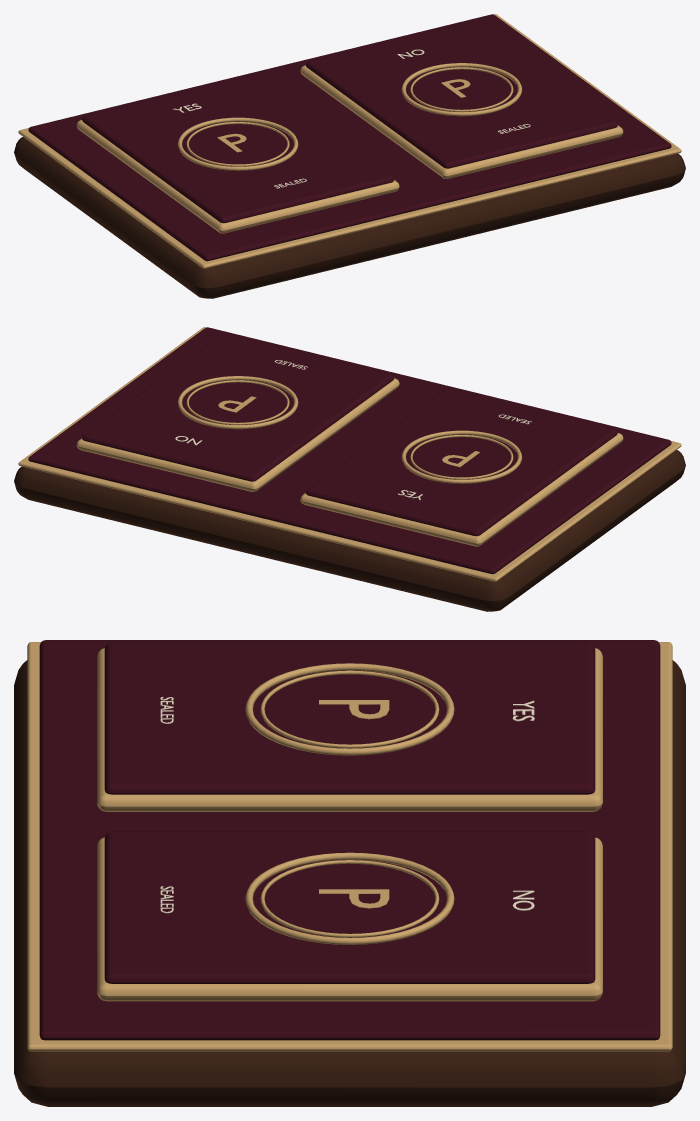
File: prediction.glb
3 renders of one model, top to bottom at view 1: azimuth 30°, elevation 25°; view 2: azimuth 150°, elevation 25°; view 3: azimuth 270°, elevation 25°, orthographic. The views are drawn at different scales.
Visible parts, largest first — view 1: felt_inset.001, card_back_0, card_back_1, walnut_base.001, brass_inlay.001, sealed_card_0, sealed_card_1, card_rosette_0, card_rosette_1, card_rosette_inner_1, card_rosette_inner_0; view 2: felt_inset.001, card_back_0, card_back_1, walnut_base.001, brass_inlay.001, sealed_card_0, sealed_card_1, card_rosette_0, card_rosette_1, card_rosette_inner_1, card_rosette_inner_0; view 3: felt_inset.001, card_back_0, card_back_1, walnut_base.001, brass_inlay.001, sealed_card_1, sealed_card_0, card_rosette_0, card_rosette_1, card_rosette_inner_1, card_rosette_inner_0, card_monogram_1.
Part boxes in pixels (x1=…): felt_inset.001: x1=28, y1=14, x2=671, y2=261; card_back_0: x1=82, y1=75, x2=393, y2=223; card_back_1: x1=306, y1=21, x2=617, y2=168; walnut_base.001: x1=14, y1=137, x2=685, y2=298; brass_inlay.001: x1=18, y1=14, x2=681, y2=268; sealed_card_0: x1=76, y1=120, x2=399, y2=233; sealed_card_1: x1=300, y1=65, x2=623, y2=178; card_rosette_0: x1=177, y1=117, x2=298, y2=170; card_rosette_1: x1=401, y1=63, x2=522, y2=116; card_rosette_inner_1: x1=410, y1=67, x2=513, y2=111; card_rosette_inner_0: x1=186, y1=122, x2=289, y2=166; felt_inset.001: x1=28, y1=327, x2=671, y2=574; card_back_0: x1=306, y1=388, x2=617, y2=536; card_back_1: x1=82, y1=334, x2=393, y2=481; walnut_base.001: x1=14, y1=450, x2=685, y2=611; brass_inlay.001: x1=18, y1=327, x2=681, y2=581; sealed_card_0: x1=300, y1=433, x2=623, y2=546; sealed_card_1: x1=76, y1=378, x2=399, y2=491; card_rosette_0: x1=401, y1=430, x2=522, y2=483; card_rosette_1: x1=177, y1=376, x2=298, y2=429; card_rosette_inner_1: x1=186, y1=380, x2=289, y2=424; card_rosette_inner_0: x1=410, y1=435, x2=513, y2=479; felt_inset.001: x1=39, y1=640, x2=660, y2=1040; card_back_0: x1=104, y1=642, x2=595, y2=794; card_back_1: x1=104, y1=831, x2=595, y2=983; walnut_base.001: x1=14, y1=660, x2=685, y2=1106; brass_inlay.001: x1=27, y1=642, x2=672, y2=1051; sealed_card_1: x1=97, y1=837, x2=602, y2=1001; sealed_card_0: x1=97, y1=648, x2=602, y2=811; card_rosette_0: x1=245, y1=663, x2=454, y2=755; card_rosette_1: x1=245, y1=852, x2=454, y2=944; card_rosette_inner_1: x1=260, y1=860, x2=439, y2=937; card_rosette_inner_0: x1=260, y1=670, x2=439, y2=748; card_monogram_1: x1=319, y1=889, x2=389, y2=908.
Bounding box in the file's own units: 4.4 × 0.537 × 3.
